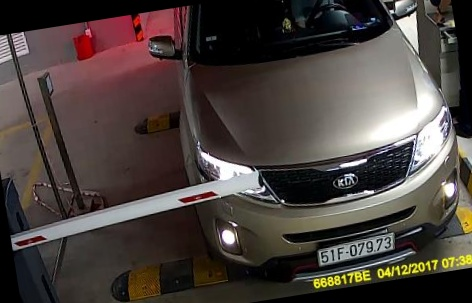plate: (305, 226, 414, 269)
